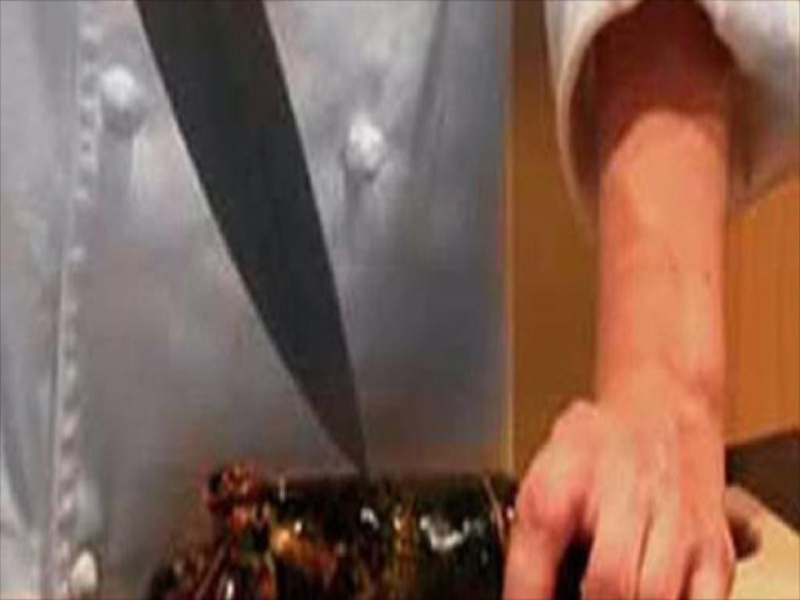knife: (131, 1, 373, 490)
